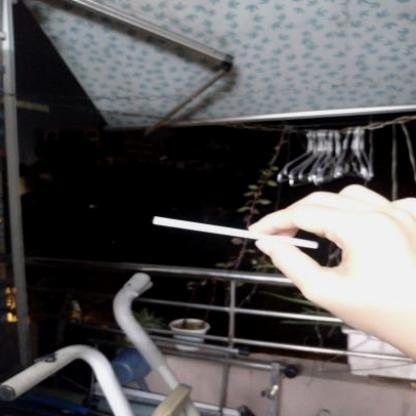cigarette: (149, 215, 320, 252)
